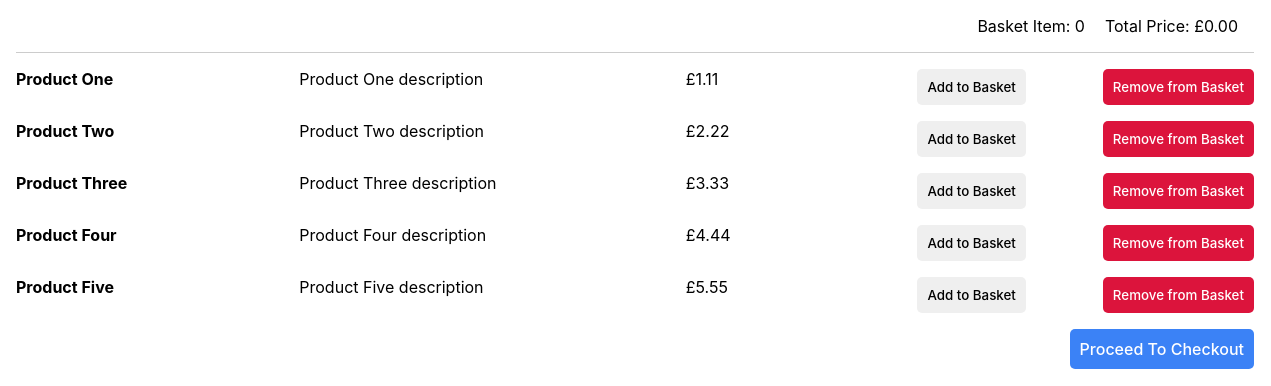
Test case: Home Component › should add and remove from basket
This screenshot has width=1271, height=386.
Click the button with test id "addBtn-1" at (972, 87), box [918,69,1026,105]
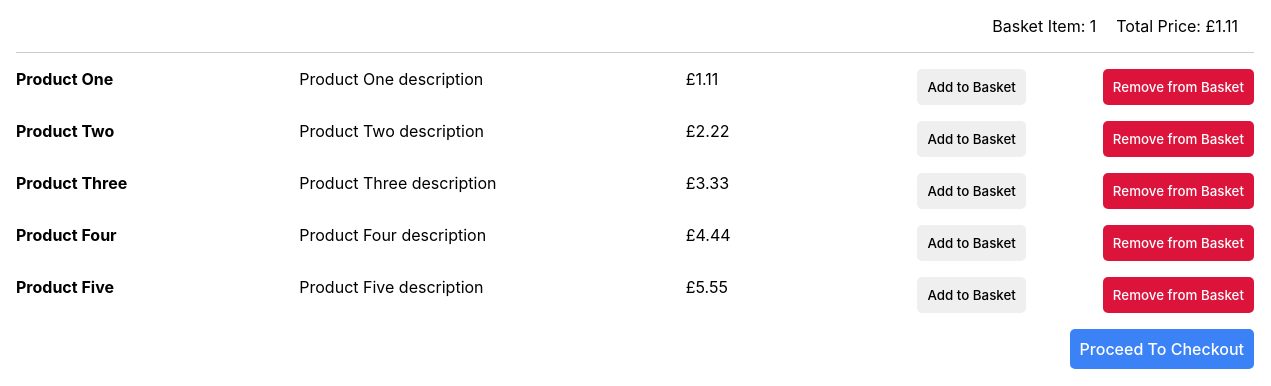
Expected: the link "Basket Item: 1" is shown, [992,16,1096,36]
Click the button with test id "removeBtn-1" at (1178, 87), box [1103,69,1254,105]
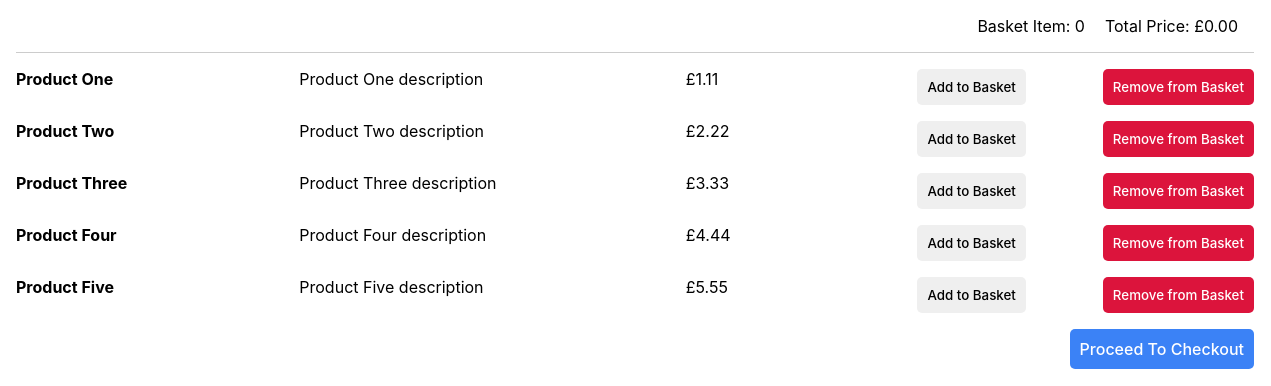
Expected: the link "Basket Item: 0" is shown, [977,16,1085,36]
